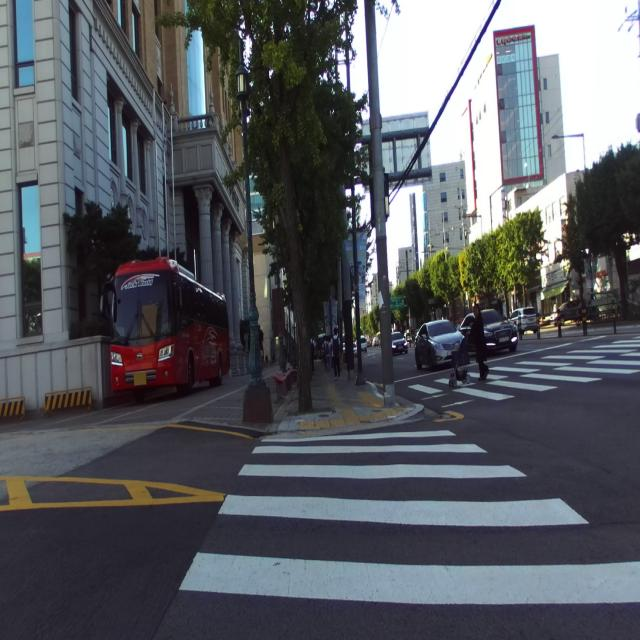횡단보도: (178, 430, 640, 602), (400, 329, 640, 416)
